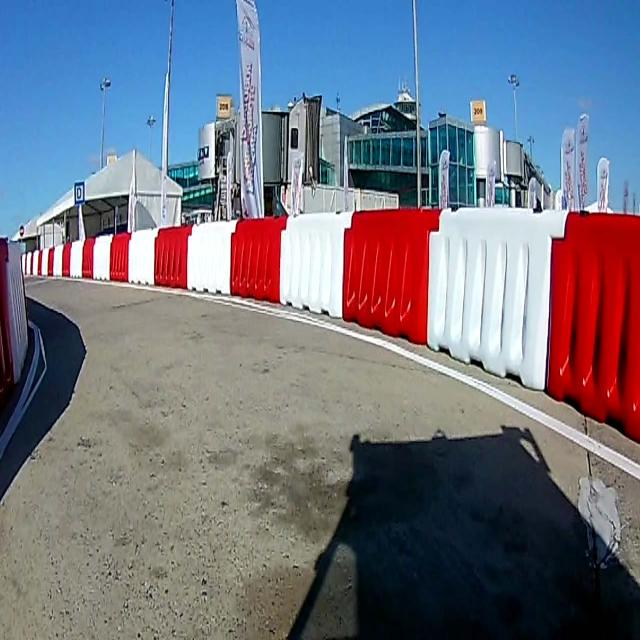durak: (74, 180, 84, 203)
